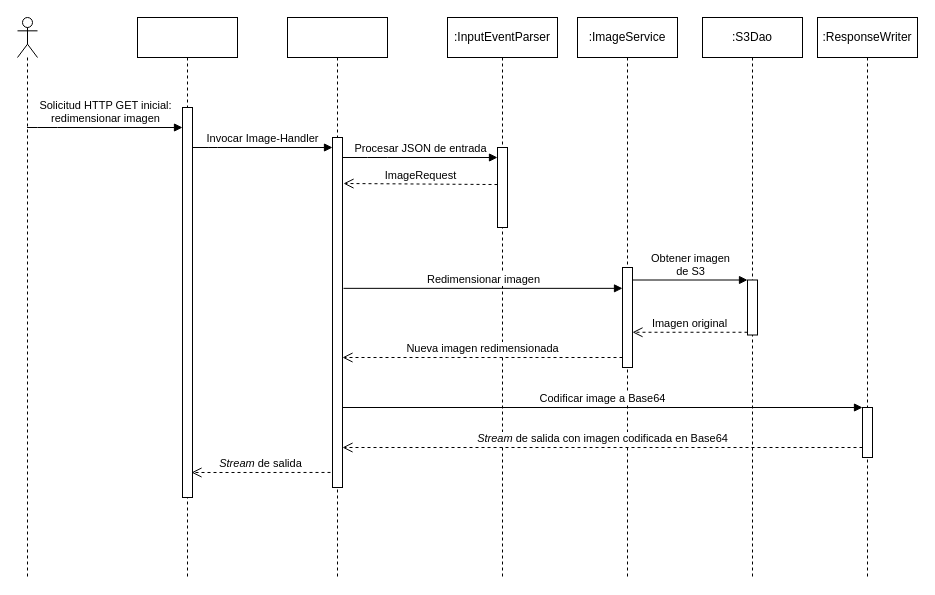
Image size: 935x595. Some labels were removed from this diagram. The box of each missing label's shape, as (x1, y1, x2, y2) in pixels:
:API Gateway: (136, 16, 238, 578)
:ImageHandler: (286, 16, 388, 578)
